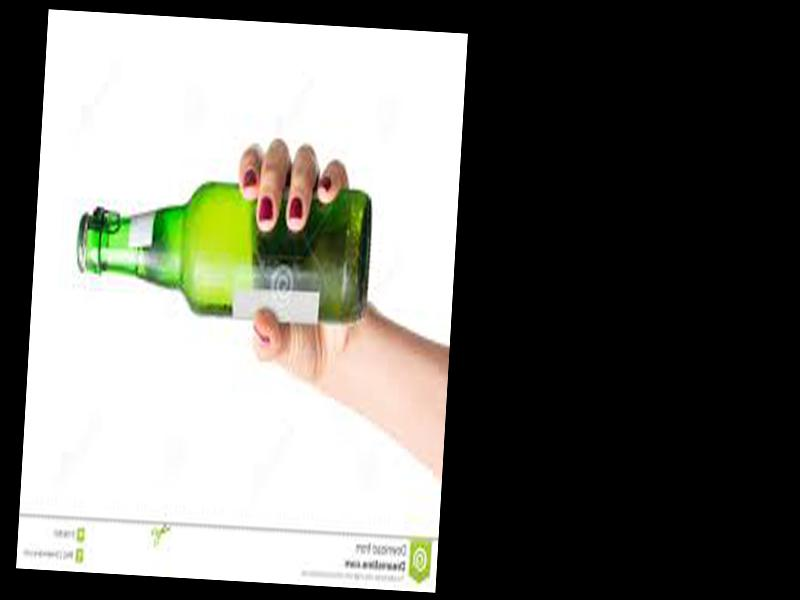Beer: (73, 165, 372, 330)
